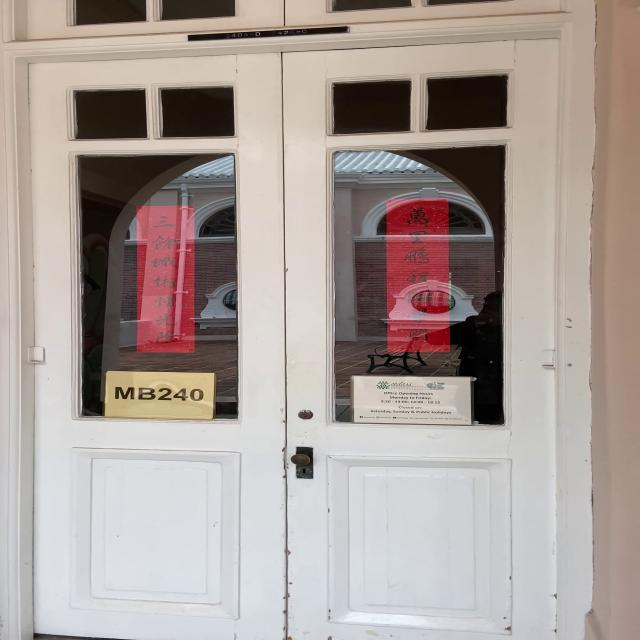room240: (99, 368, 218, 422)
